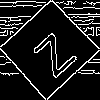Z: (24, 24, 78, 79)
